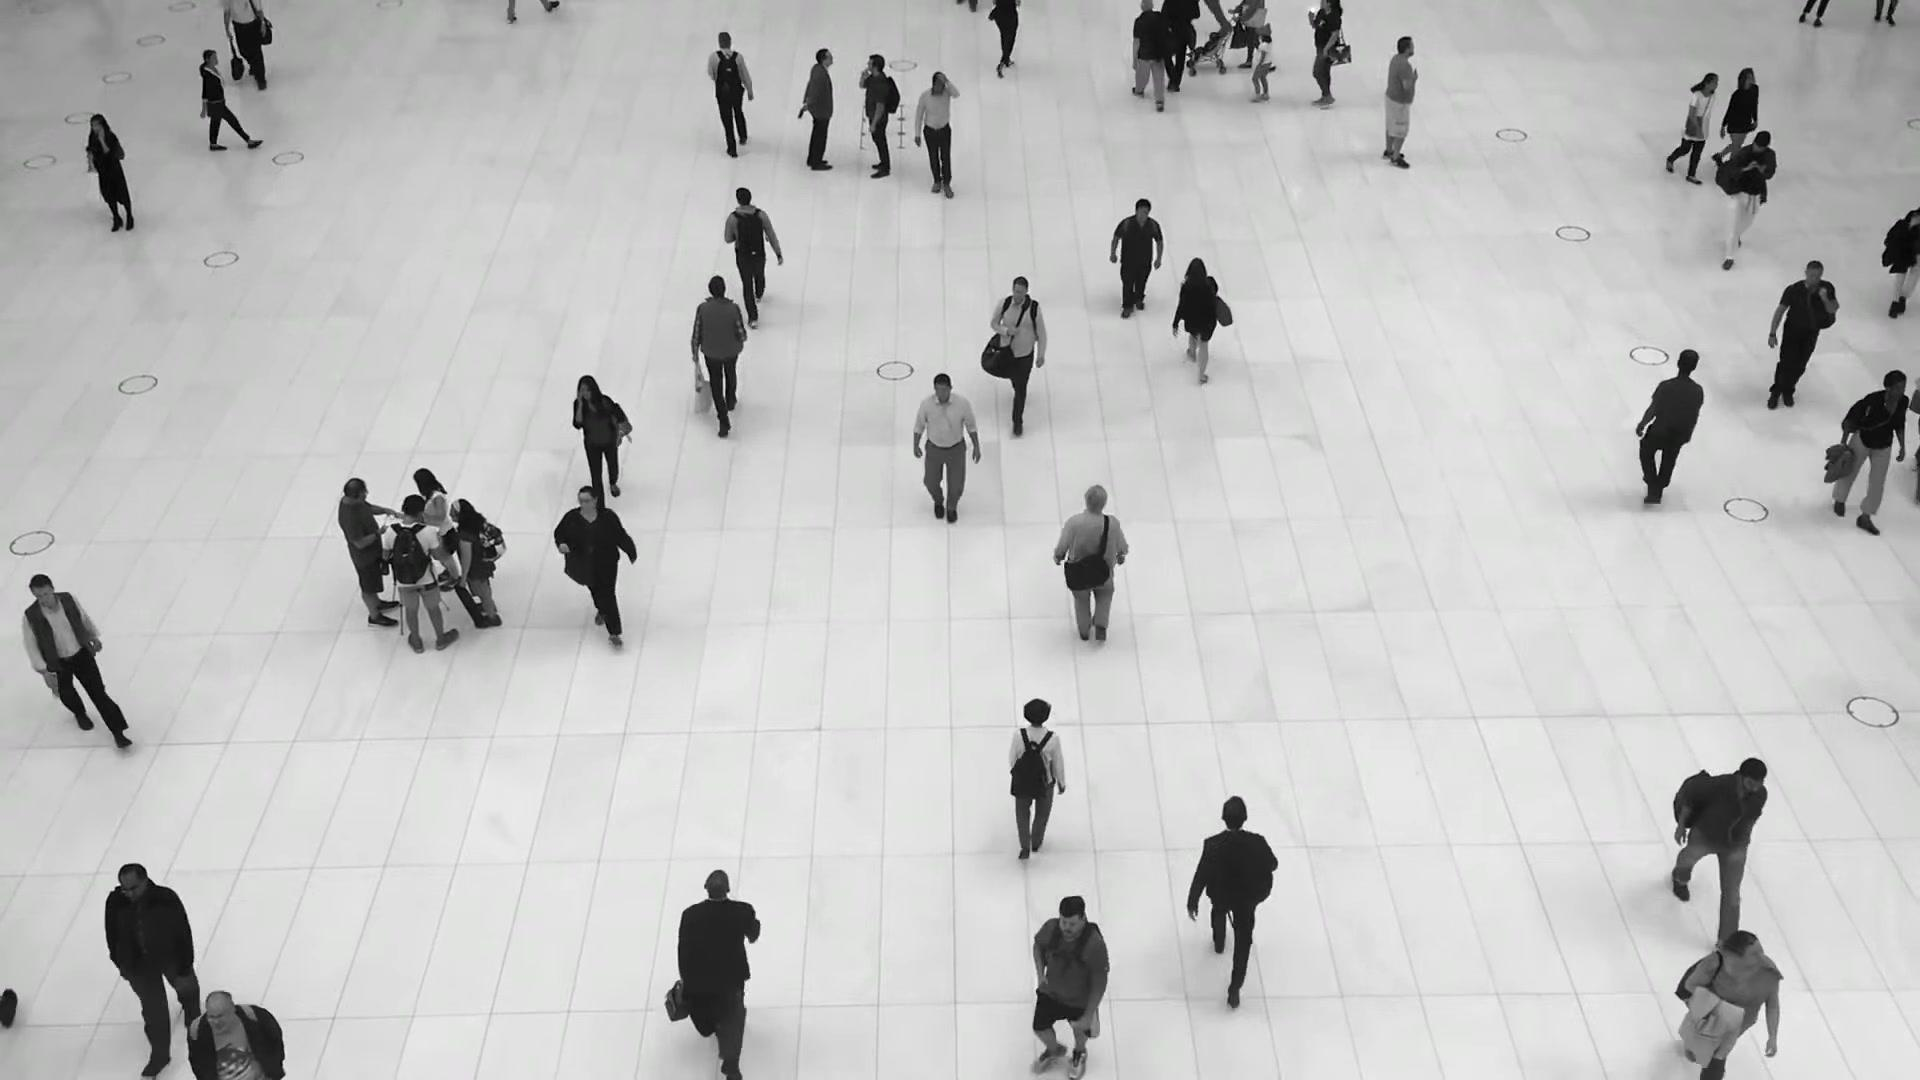person: (103, 863, 200, 1080), (663, 870, 761, 1079), (1186, 795, 1278, 1009), (21, 574, 132, 748), (1671, 756, 1768, 940), (1674, 929, 1782, 1080), (1029, 896, 1110, 1079), (553, 485, 637, 648), (1833, 369, 1910, 537), (382, 494, 458, 654), (1053, 485, 1128, 642), (1767, 260, 1839, 412), (1634, 348, 1704, 503), (912, 373, 981, 525), (1009, 698, 1067, 860), (337, 477, 400, 629), (185, 989, 287, 1080), (690, 275, 747, 438), (990, 277, 1047, 436), (1715, 129, 1776, 270), (724, 187, 782, 328), (572, 375, 631, 498), (449, 498, 502, 628), (198, 48, 263, 151), (1109, 197, 1164, 318), (1665, 72, 1719, 186), (913, 70, 959, 199), (707, 31, 754, 157), (412, 467, 459, 592), (1172, 258, 1219, 385), (86, 113, 134, 231), (1381, 34, 1420, 168), (1128, 0, 1175, 108), (858, 54, 900, 180), (1711, 67, 1759, 165), (799, 48, 834, 171), (1307, 0, 1343, 108), (1249, 30, 1274, 103)
